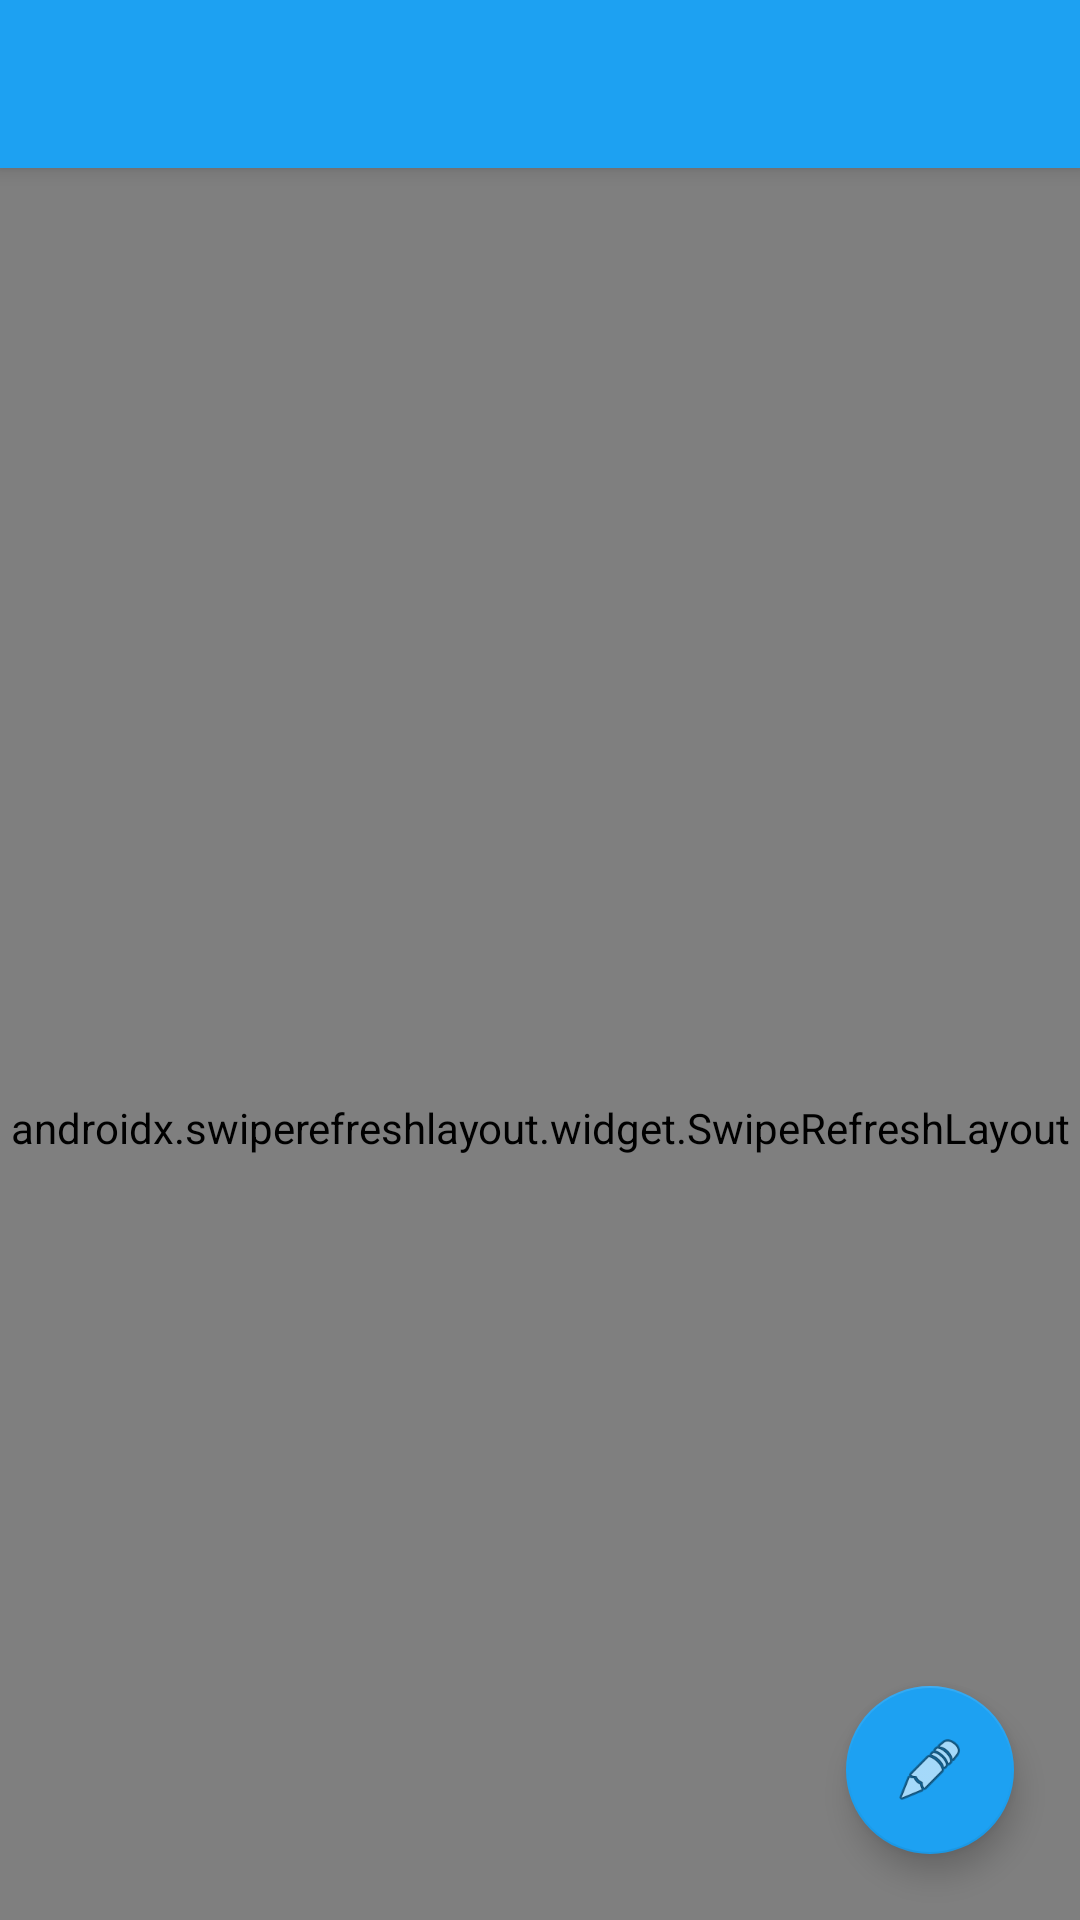

Icons on this 1080px x 1920px Android screen, each with its box as (x1, y1, x2, y2):
edit: (846, 1686, 1014, 1854)
